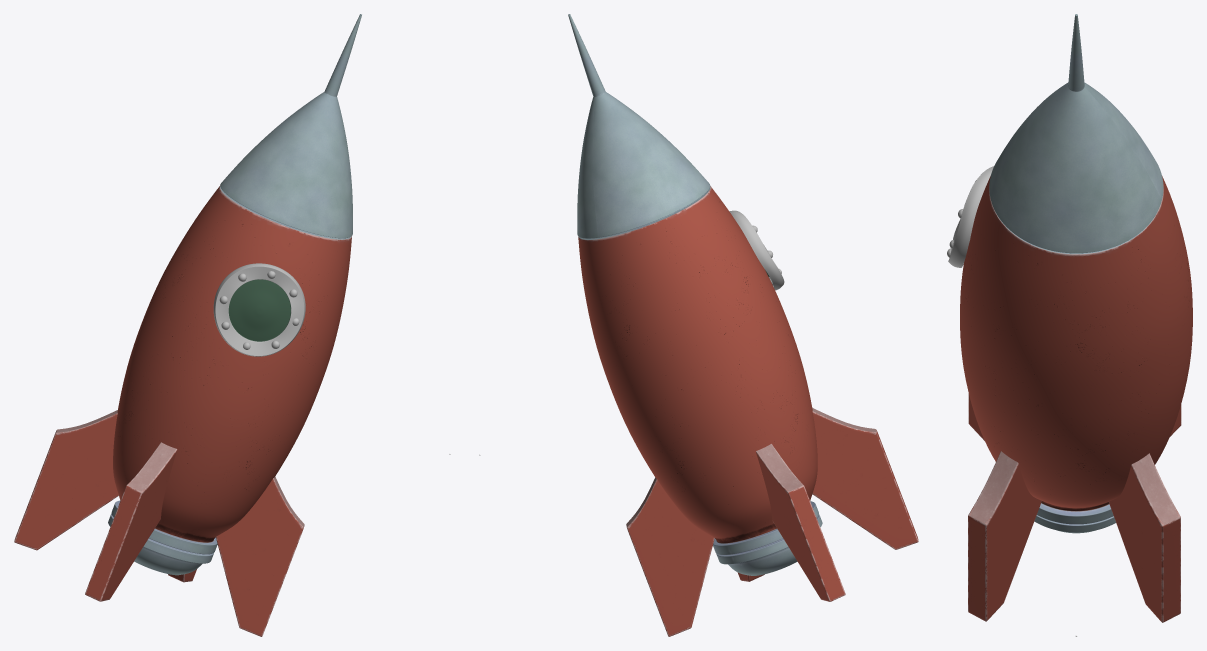
File: rocket.glb
The picture shows the model from 3 angles, left to right: view 1: azimuth 30°, elevation 25°; view 2: azimuth 150°, elevation 25°; view 3: azimuth 270°, elevation 25°; orthographic projection. The views are drawn at different scales.
Parts seen in each view (by area): view 1: Circle, Cube.001, Cube.000, Circle.001, Cube.002; view 2: Circle, Cube.002, Cube.003, Cube.001, Circle.001; view 3: Circle, Cube.000, Cube.003, Circle.001.
Part boxes in pixels (x1=…): Circle: x1=108, y1=14, x2=361, y2=575; Cube.001: x1=14, y1=410, x2=118, y2=550; Cube.000: x1=216, y1=476, x2=304, y2=636; Circle.001: x1=213, y1=263, x2=305, y2=356; Cube.002: x1=85, y1=442, x2=177, y2=601; Circle: x1=568, y1=14, x2=822, y2=575; Cube.002: x1=812, y1=408, x2=918, y2=549; Cube.003: x1=626, y1=477, x2=714, y2=636; Cube.001: x1=756, y1=444, x2=845, y2=601; Circle.001: x1=729, y1=210, x2=784, y2=290; Circle: x1=960, y1=14, x2=1192, y2=533; Cube.000: x1=968, y1=451, x2=1041, y2=621; Cube.003: x1=1109, y1=453, x2=1180, y2=622; Circle.001: x1=948, y1=166, x2=993, y2=267.
Bounding box in the file's own units: 11.03 × 14.68 × 4.75.
5 materials, 2 textured.
